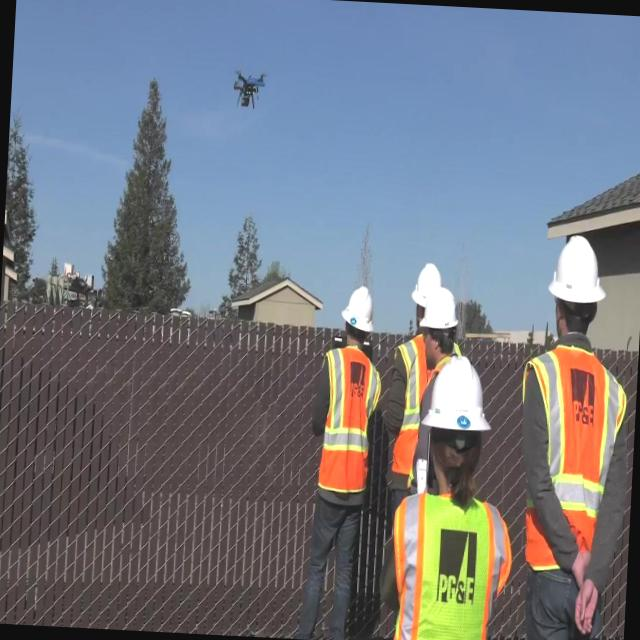drone: (232, 66, 270, 112)
